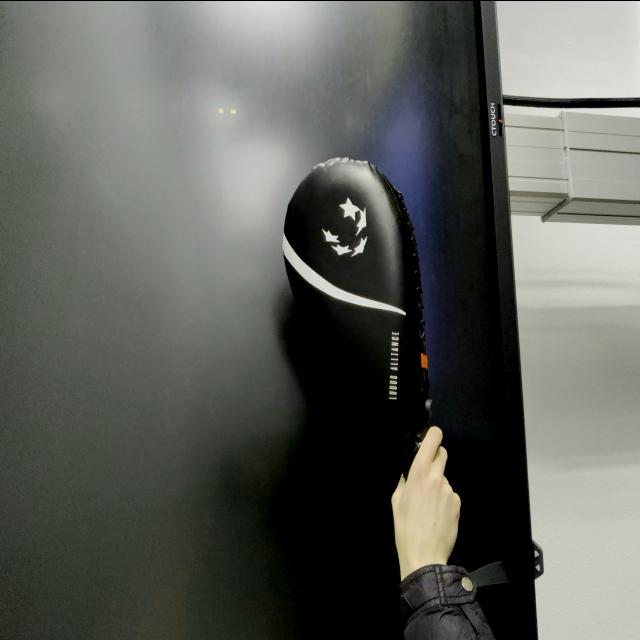paddle: (281, 150, 428, 482)
